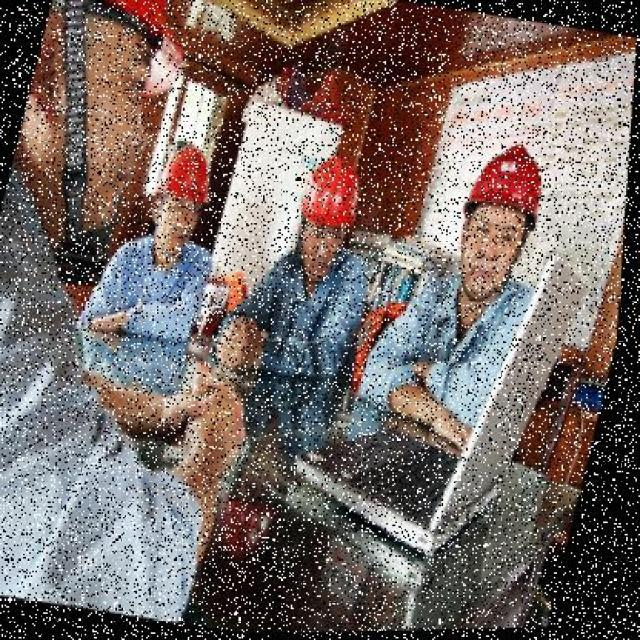helmet: (465, 130, 565, 227), (289, 154, 375, 246), (157, 138, 221, 212)
